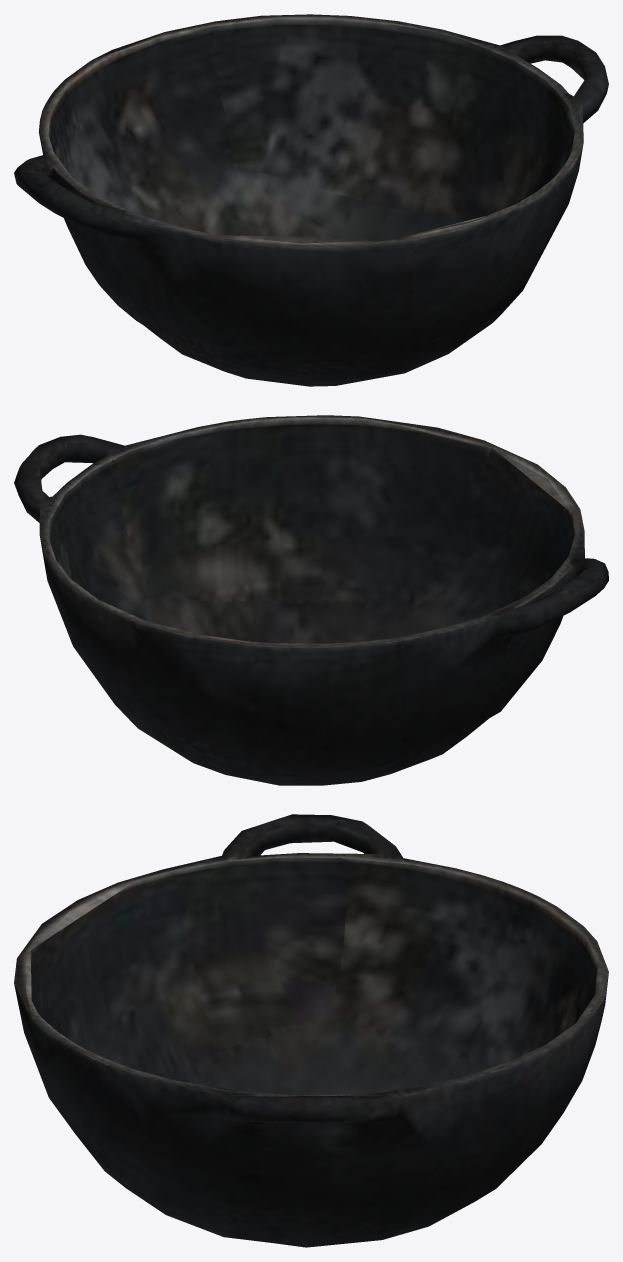
Rendered from wok.glb.
3 views of the same model, one above another, from view 1: azimuth 30°, elevation 25°; view 2: azimuth 150°, elevation 25°; view 3: azimuth 270°, elevation 25° (orthographic). The views are drawn at different scales.
Parts seen in each view (by area): view 1: mesh; view 2: mesh; view 3: mesh.
Boxes of the visible parts, x1,y1,x2,y2 form: mesh: [14, 14, 608, 386]; mesh: [14, 415, 608, 785]; mesh: [14, 814, 608, 1247].
Bounding box in the file's own units: 1.99 × 0.7855 × 1.71.
1 material, 1 textured.
